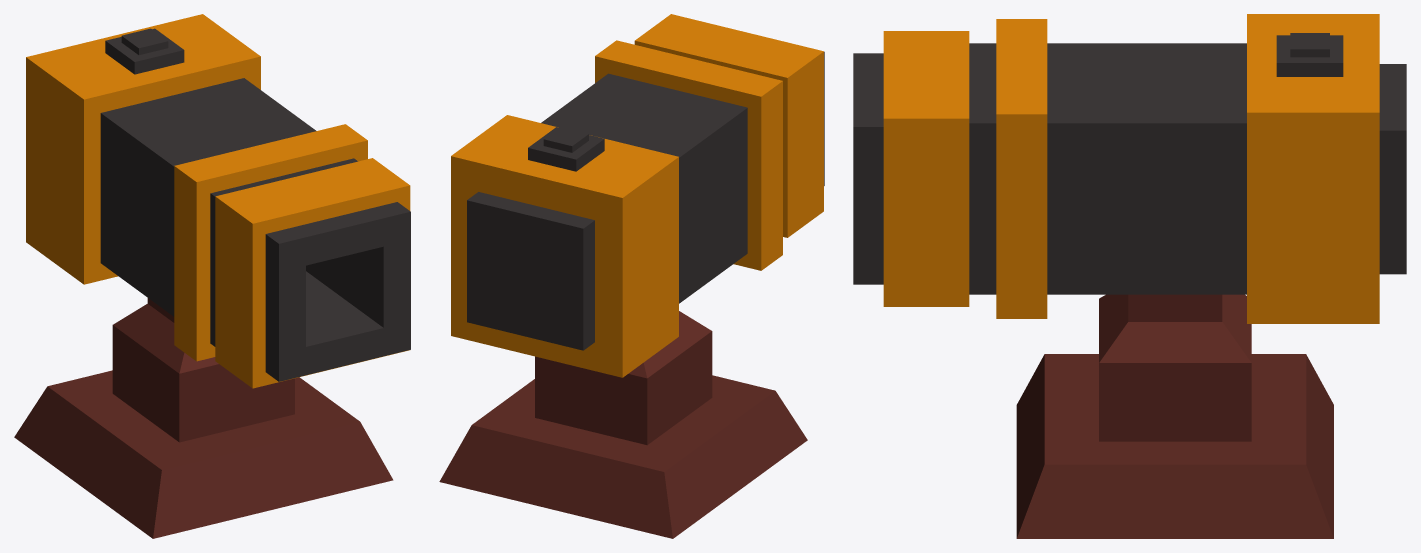
File: canon.fbx
3 views of the same model, side by side, from view 1: azimuth 30°, elevation 25°; view 2: azimuth 150°, elevation 25°; view 3: azimuth 270°, elevation 25° (orthographic). The views are drawn at different scales.
Visible parts, largest first — view 1: rotate_part, polySurface2; view 2: rotate_part, polySurface2; view 3: rotate_part, polySurface2.
Part boxes in pixels (<box>): rotate_part: <box>26,14,410,388</box>; polySurface2: <box>14,298,393,538</box>; rotate_part: <box>451,14,824,377</box>; polySurface2: <box>439,311,807,538</box>; rotate_part: <box>853,14,1406,323</box>; polySurface2: <box>1016,294,1333,538</box>.
Bounding box in the file's own units: 142 × 213 × 248.
